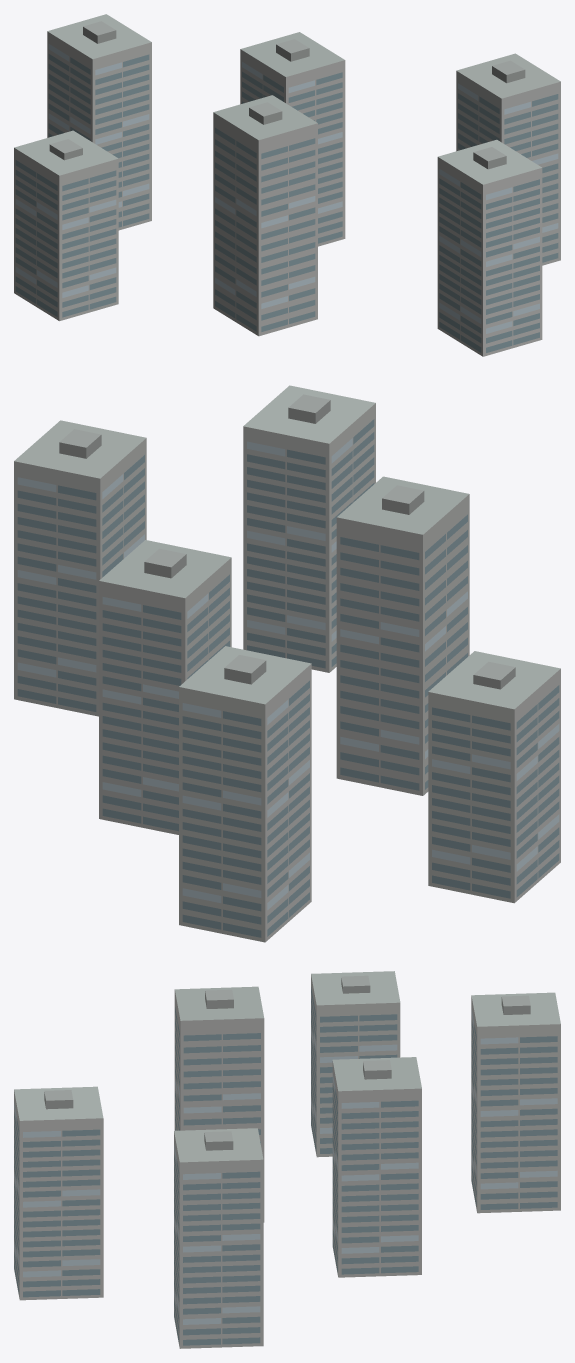
The model's file is apt-a10026053.glb.
The picture shows the model from 3 angles, top to bottom: view 1: azimuth 30°, elevation 25°; view 2: azimuth 150°, elevation 25°; view 3: azimuth 270°, elevation 25°; orthographic projection. The views are drawn at different scales.
Parts seen in each view (by area): view 1: apt-a10026053; view 2: apt-a10026053; view 3: apt-a10026053.
Boxes of the visible parts, x1,y1,x2,y2 form: apt-a10026053: (14, 14, 560, 356); apt-a10026053: (14, 385, 560, 942); apt-a10026053: (14, 971, 560, 1348).
Bounding box in the file's own units: 134 × 59 × 137.
